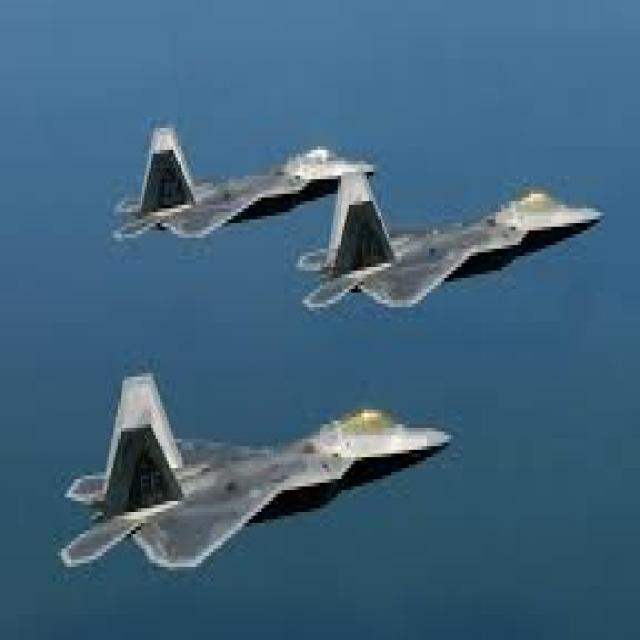F22: (62, 366, 451, 574), (296, 172, 604, 311), (104, 120, 380, 238)
